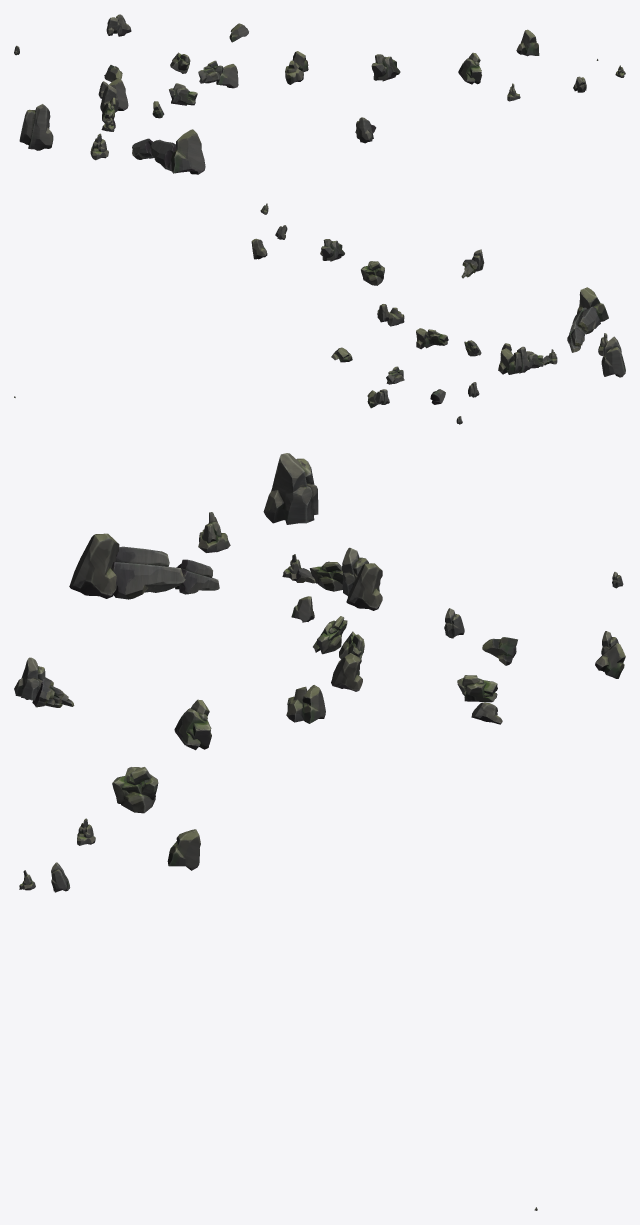
The model's file is Mesh_Rocks.glb.
3 renders of one model, top to bottom at view 1: azimuth 30°, elevation 25°; view 2: azimuth 150°, elevation 25°; view 3: azimuth 270°, elevation 25°, orthographic. The views are drawn at different scales.
Visible parts, largest first — view 1: Rock_4.003, Rock_1.010, Rock_3.004, Rock_4.010, Rock_3.003, Rock_3.002, Rock_1.004, Rock_1.006, Rock_3.005, Rock_4.009, Rock_4.005, Rock_1.002 (+5 smaller); view 2: Rock_4.003, Rock_4.010, Rock_1.010, Rock_3.004, Rock_3.003, Rock_1.002, Rock_4.002, Rock_4.009; view 3: Rock_4.003, Rock_4.010, Rock_1.010, Rock_3.003, Rock_3.004, Rock_1.002, Rock_4.009, Rock_1.004.
Part boxes in pixels (box(x1,y1,x2,y2)): Rock_4.003: box(19, 104, 53, 150); Rock_1.010: box(171, 129, 205, 174); Rock_3.004: box(371, 54, 400, 81); Rock_4.010: box(151, 139, 176, 171); Rock_3.003: box(458, 52, 481, 84); Rock_3.002: box(169, 83, 197, 105); Rock_1.004: box(516, 29, 539, 56); Rock_1.006: box(216, 64, 238, 88); Rock_3.005: box(198, 60, 222, 83); Rock_4.009: box(132, 138, 153, 159); Rock_4.005: box(356, 117, 373, 143); Rock_1.002: box(109, 78, 128, 110); Rock_4.003: box(601, 336, 625, 377); Rock_4.010: box(570, 306, 600, 334); Rock_1.010: box(577, 287, 608, 321); Rock_3.004: box(361, 261, 384, 285); Rock_3.003: box(321, 239, 344, 261); Rock_1.002: box(498, 348, 518, 374); Rock_4.002: box(513, 346, 529, 373); Rock_4.009: box(567, 327, 584, 352); Rock_4.003: box(263, 453, 318, 524); Rock_4.010: box(111, 546, 185, 599); Rock_1.010: box(69, 533, 119, 598); Rock_3.003: box(112, 767, 158, 813); Rock_3.004: box(174, 699, 211, 750); Rock_1.002: box(346, 563, 382, 610); Rock_4.009: box(175, 559, 219, 594); Rock_1.004: box(167, 829, 200, 870).
Size of the model in its own units: 492 by 122 by 252.
Materials: 1 (1 with a texture image).
